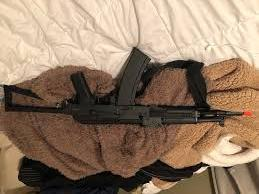larga: (3, 46, 254, 129)
